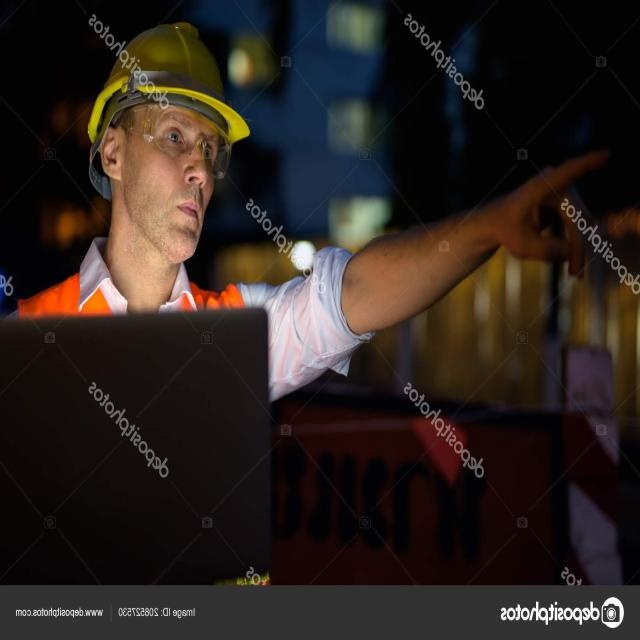Con_Casco: (78, 20, 246, 262)
